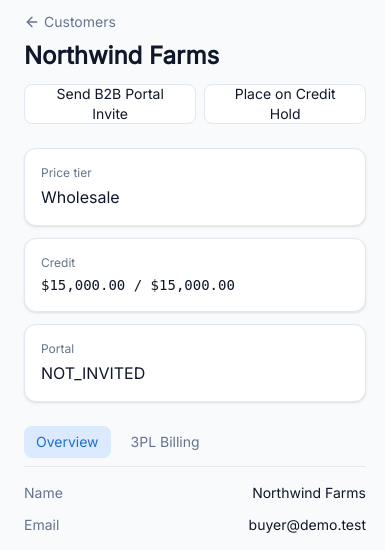
it: CustomerWorkspacePage portal invite › toasts the invite fallback when the payload has no detail
The image size is (385, 550).
Expected: the heading "Northwind Farms" is shown, [24,40,219,72]
Step 1. Click the button with test id "customer-portal-invite" → (110, 104), box [24,84,196,124]
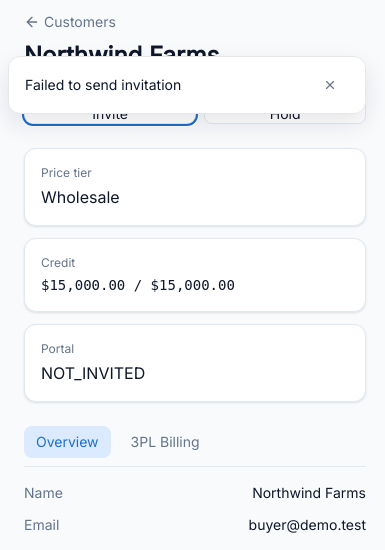
Result: the message with test id "app-toast" reads "Failed to send invitation" at [25,76,181,93]
